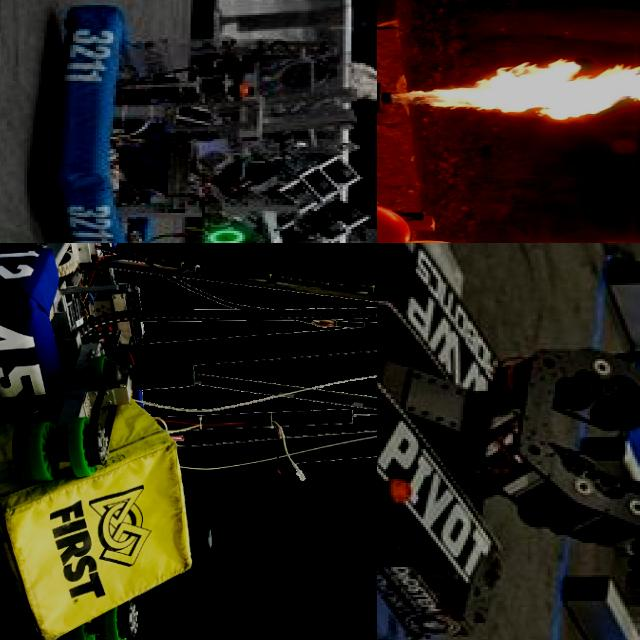FRC-Robots: (377, 243, 640, 640), (0, 243, 377, 514), (18, 0, 377, 243), (377, 135, 640, 243)
